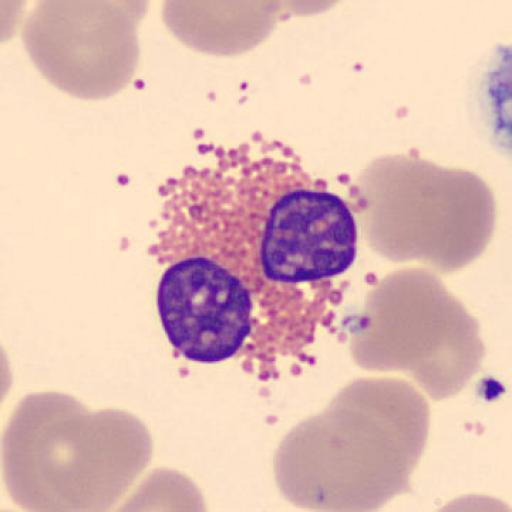Platelet: (474, 372, 509, 405)
RBC: (346, 266, 485, 398), (357, 154, 499, 272), (270, 406, 412, 512), (0, 387, 104, 511), (21, 0, 143, 103), (347, 266, 464, 372), (41, 404, 155, 511), (354, 152, 458, 267), (400, 160, 498, 273), (326, 374, 432, 469), (401, 294, 486, 400), (159, 0, 283, 59), (102, 465, 210, 512), (36, 0, 152, 38), (76, 0, 154, 30), (422, 491, 512, 512), (0, 331, 16, 436), (0, 0, 32, 49), (275, 0, 349, 20), (0, 334, 14, 414)
WBC: (149, 129, 364, 369)
